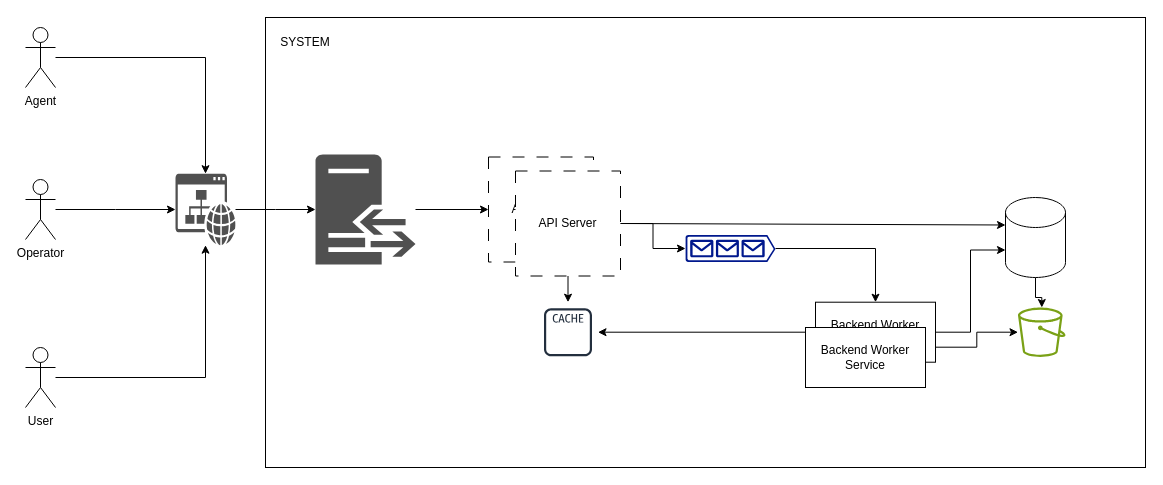
This 1163x485 diagram has some shape labels left out. The centre of each missing label's shape, as x and y in pixels:
"Cache data for quick access" belongs at (x=567, y=331).
"Relational Data" belongs at (x=1035, y=237).
"Unstructured Data" belongs at (x=1041, y=331).
